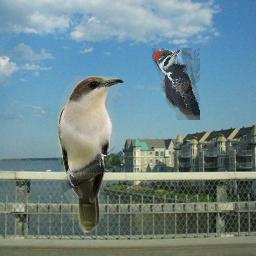Cuckoo: (58, 76, 125, 234)
Woodpecker: (152, 48, 200, 120)
